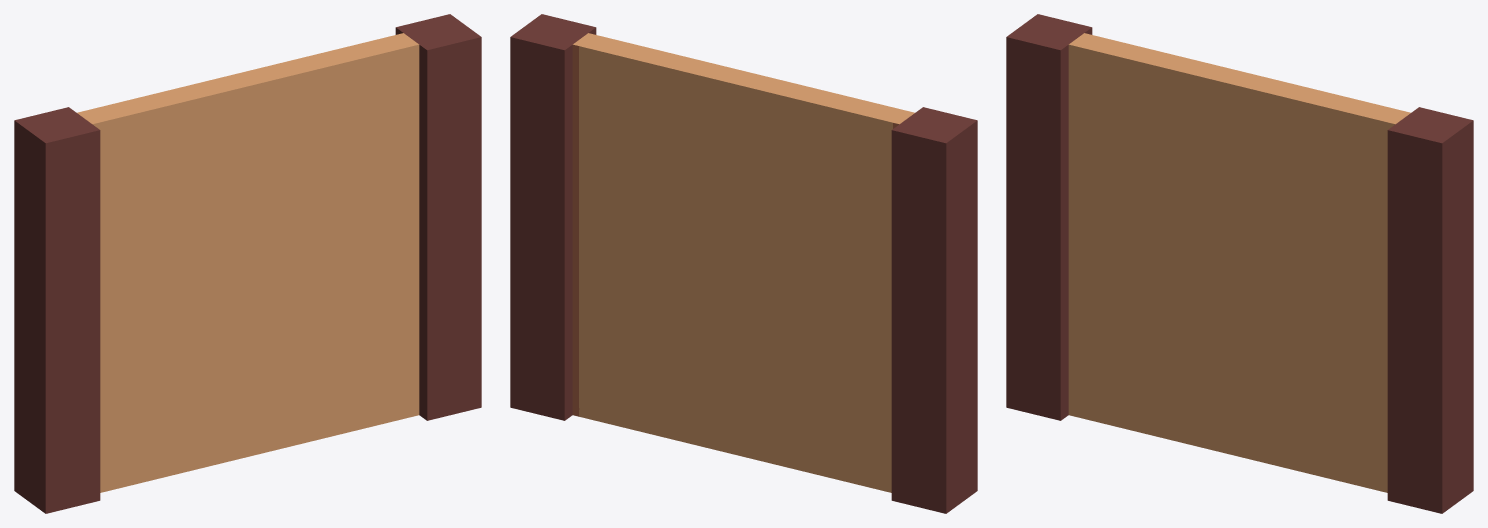
Rendered from TallWall.gltf.
3 views of the same model, side by side, from view 1: azimuth 30°, elevation 25°; view 2: azimuth 150°, elevation 25°; view 3: azimuth 330°, elevation 25° (orthographic).
Visible parts, largest first — view 1: cube; view 2: cube; view 3: cube.
Part boxes in pixels (x1=…): cube: x1=14, y1=14, x2=481, y2=513; cube: x1=510, y1=14, x2=977, y2=513; cube: x1=1006, y1=14, x2=1473, y2=513.
Bounding box in the file's own units: 4 × 3.25 × 0.5.
1 material, 1 textured.
